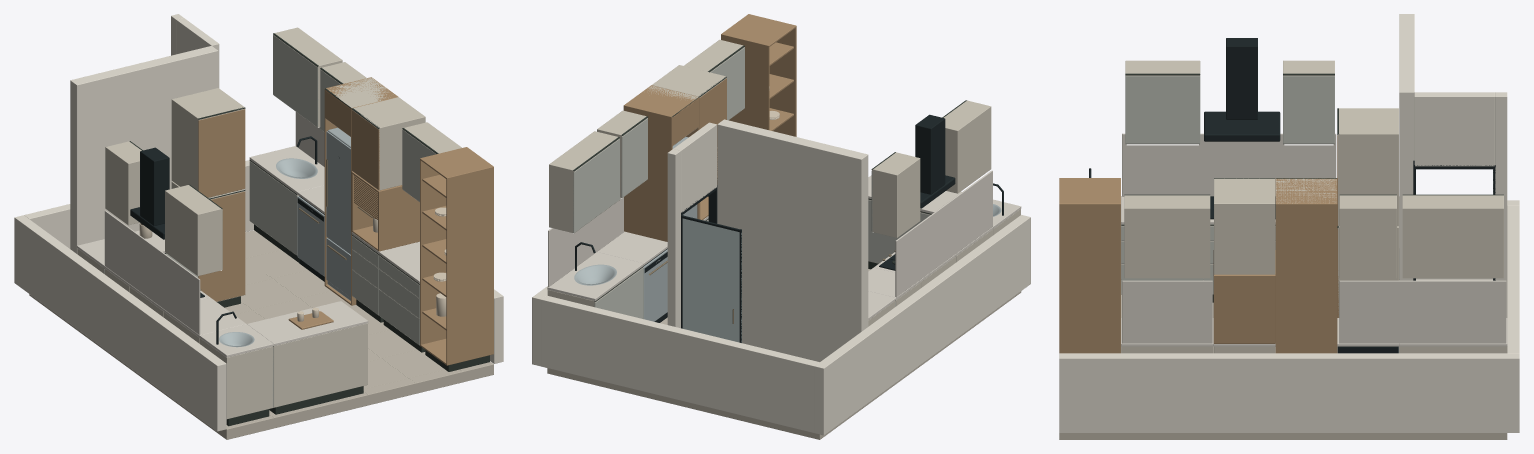
The model's file is user_sketch_kitchen.glb.
The picture shows the model from 3 angles, left to right: view 1: azimuth 30°, elevation 25°; view 2: azimuth 150°, elevation 25°; view 3: azimuth 270°, elevation 25°; orthographic projection. The views are drawn at different scales.
Parts seen in each view (by area): view 1: Surface 3, Surface 14, Surface 7, Surface 2, Surface 1, Surface 9, Surface 10, Surface 8, Surface 4, Surface 13; view 2: Surface 3, Surface 7, Surface 2, Surface 14, Surface 9, Surface 5, Surface 4, Surface 10, Surface 1, Surface 8; view 3: Surface 3, Surface 7, Surface 2, Surface 14, Surface 9, Surface 4, Surface 1, Surface 8.
Part boxes in pixels (x1,y1,x2,y2): Surface 3: (14,14,503,431); Surface 14: (198,77,493,365); Surface 7: (77,27,462,419); Surface 2: (77,112,419,357); Surface 1: (29,230,493,439); Surface 9: (103,35,435,407); Surface 10: (219,127,350,347); Surface 8: (104,33,489,426); Surface 4: (130,136,339,344); Surface 13: (139,207,446,321); Surface 3: (532,119,1030,435); Surface 7: (547,39,1020,326); Surface 2: (547,170,1021,320); Surface 14: (623,14,796,241); Surface 9: (573,47,930,318); Surface 5: (682,218,741,342); Surface 4: (575,114,1003,342); Surface 10: (574,137,1001,321); Surface 1: (547,269,1021,439); Surface 8: (573,45,966,301); Surface 3: (1059,14,1519,432); Surface 7: (1121,60,1507,353); Surface 2: (1121,133,1507,346); Surface 14: (1059,135,1338,353); Surface 9: (1121,76,1334,294); Surface 4: (1089,38,1495,353); Surface 1: (1059,280,1507,439); Surface 8: (1121,73,1503,302).
Size of the model in its own units: 3.64 by 2.98 by 4.47.
